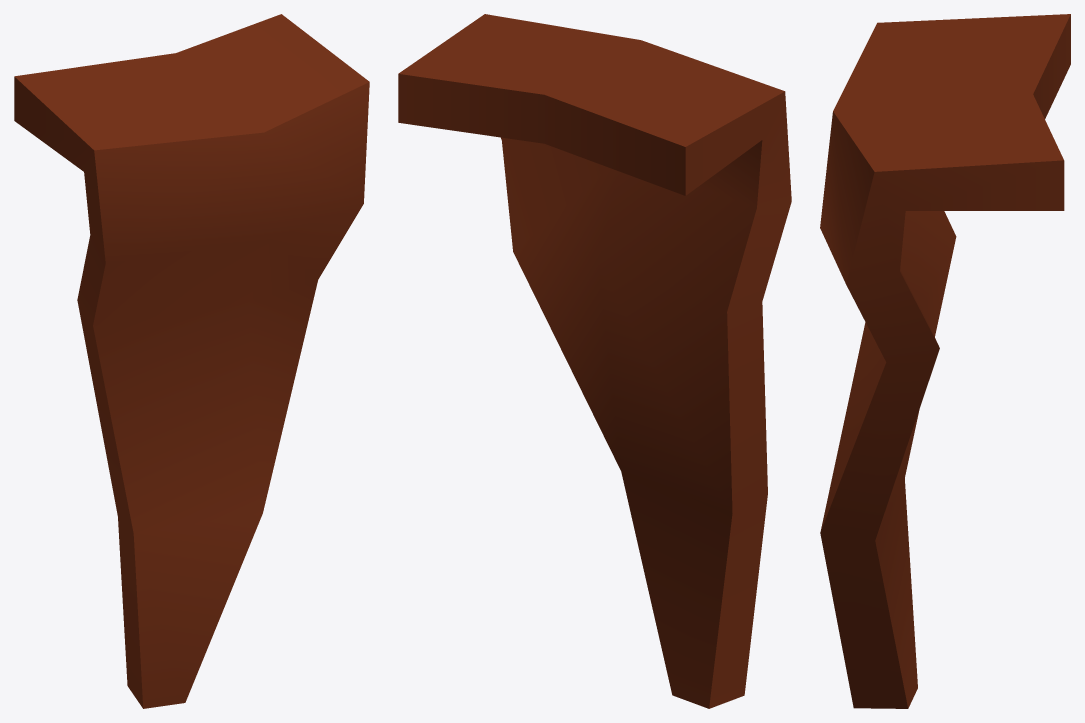
The model's file is TerracottaDebris03.FBX.
3 views of the same model, side by side, from view 1: azimuth 30°, elevation 25°; view 2: azimuth 150°, elevation 25°; view 3: azimuth 270°, elevation 25° (orthographic). The views are drawn at different scales.
Visible parts, largest first — view 1: TerracottaDebris03; view 2: TerracottaDebris03; view 3: TerracottaDebris03.
Part boxes in pixels (<box>): TerracottaDebris03: <box>14,14,369,708</box>; TerracottaDebris03: <box>398,14,791,708</box>; TerracottaDebris03: <box>820,14,1070,708</box>.
Size of the model in its own units: 12.9 by 25.83 by 9.
